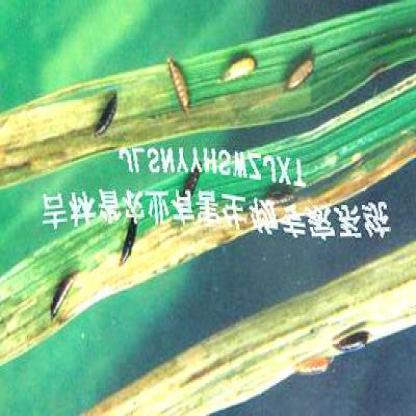whorl-maggot: (162, 52, 200, 115), (41, 272, 80, 317), (90, 90, 122, 142), (217, 52, 260, 89), (291, 350, 335, 385), (284, 52, 318, 97), (115, 223, 143, 275), (332, 330, 374, 360)
